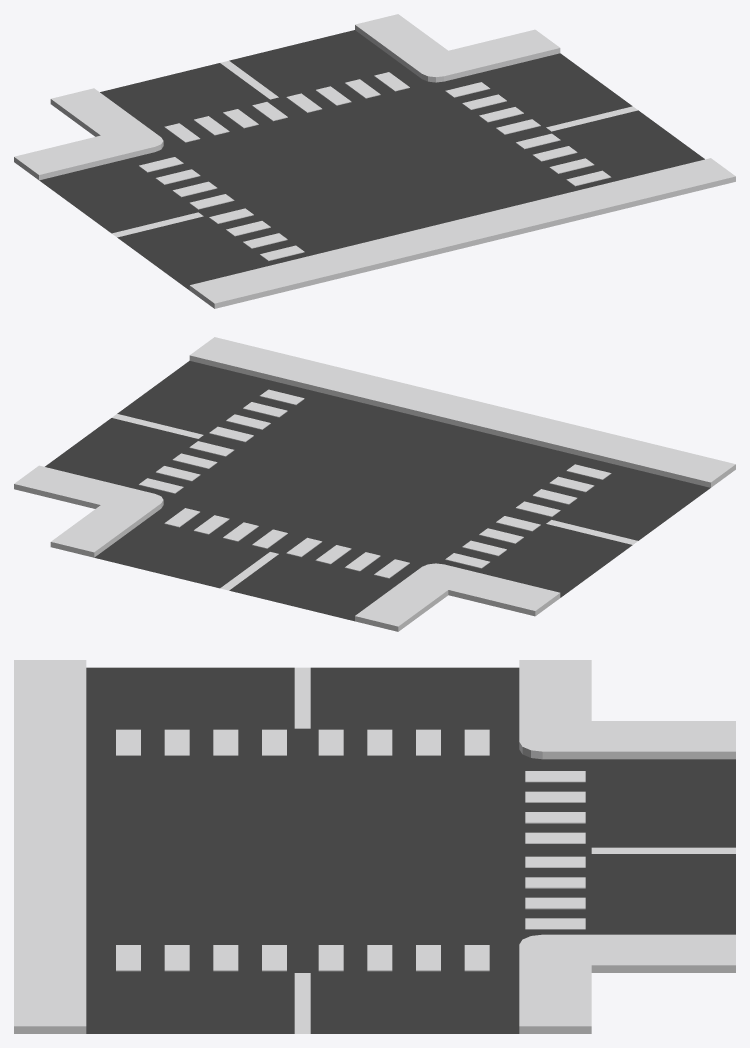
Rendered from two-lane-T-junction.fbx.
3 views of the same model, one above another, from view 1: azimuth 30°, elevation 25°; view 2: azimuth 150°, elevation 25°; view 3: azimuth 270°, elevation 25° (orthographic). The views are drawn at different scales.
Parts seen in each view (by area): view 1: two-lane-T-junction-; view 2: two-lane-T-junction-; view 3: two-lane-T-junction-.
Part boxes in pixels (box(x1,y1,x2,y2)): two-lane-T-junction-: box(14, 14, 735, 308); two-lane-T-junction-: box(14, 337, 735, 631); two-lane-T-junction-: box(14, 660, 735, 1033).
Size of the model in its own units: 16.82 by 0.165 by 14.01.
